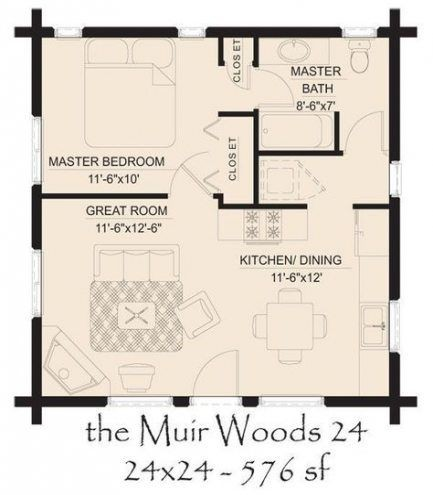door: (194, 350, 241, 402), (347, 109, 387, 154), (253, 67, 295, 109), (172, 160, 213, 200)
room: (44, 202, 225, 403), (226, 211, 385, 400), (39, 38, 218, 191), (257, 35, 383, 150)
wall: (205, 23, 344, 42), (28, 12, 45, 121), (388, 9, 398, 160), (387, 195, 401, 300), (41, 190, 169, 201), (326, 394, 427, 407), (16, 395, 106, 407), (32, 316, 41, 422), (84, 27, 178, 36), (389, 349, 399, 428), (218, 201, 307, 209), (29, 184, 39, 247), (261, 148, 337, 156), (217, 107, 261, 120), (377, 23, 416, 36), (15, 26, 54, 37), (332, 111, 343, 149), (350, 201, 396, 209), (255, 112, 259, 202), (249, 36, 260, 67), (215, 38, 225, 65), (242, 394, 260, 407), (171, 395, 191, 406)
window: (27, 122, 47, 185), (109, 396, 171, 408), (263, 397, 323, 409), (385, 162, 402, 195), (31, 253, 40, 315), (389, 302, 401, 348), (193, 396, 240, 407), (347, 24, 372, 38), (55, 25, 82, 37), (180, 25, 203, 37)
